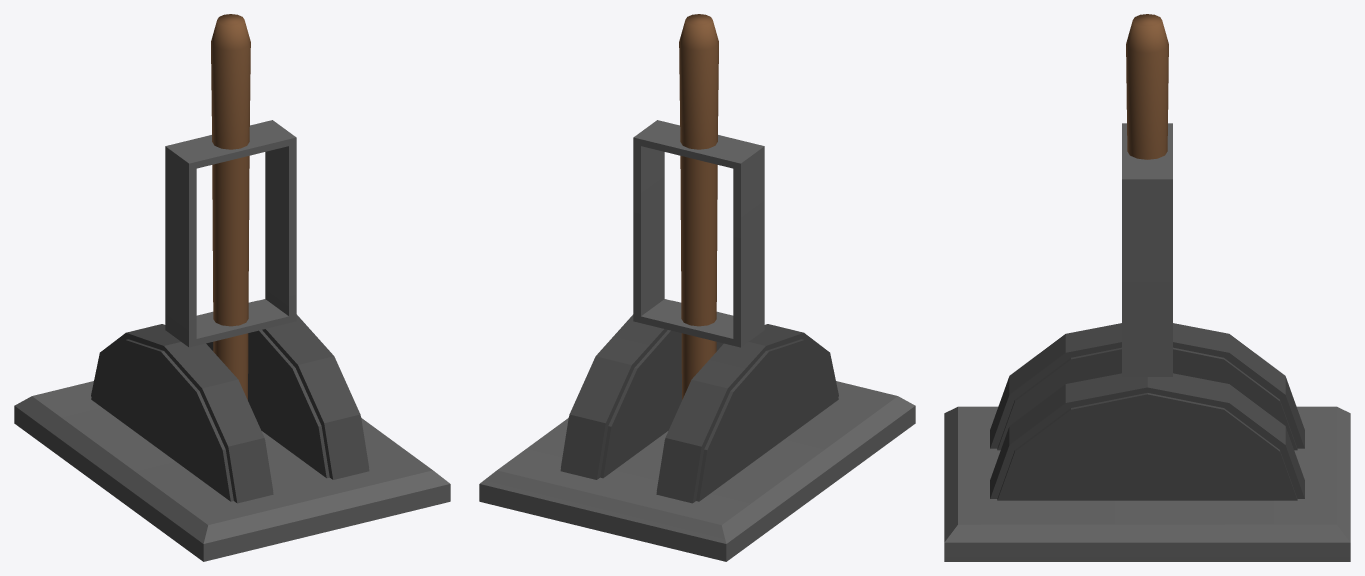
Rendered from Big_Control_Stick_2.fbx.
3 views of the same model, side by side, from view 1: azimuth 30°, elevation 25°; view 2: azimuth 150°, elevation 25°; view 3: azimuth 270°, elevation 25° (orthographic). The views are drawn at different scales.
Visible parts, largest first — view 1: Big_Control_Stick_2, Big_Control_Stick_2.001; view 2: Big_Control_Stick_2, Big_Control_Stick_2.001; view 3: Big_Control_Stick_2, Big_Control_Stick_2.001.
Part boxes in pixels (box(x1,y1,x2,y2)): Big_Control_Stick_2: box(14, 300, 450, 561); Big_Control_Stick_2.001: box(165, 14, 296, 400); Big_Control_Stick_2: box(479, 300, 915, 561); Big_Control_Stick_2.001: box(633, 14, 764, 399); Big_Control_Stick_2: box(944, 323, 1350, 561); Big_Control_Stick_2.001: box(1122, 14, 1172, 376).
Bounding box in the file's own units: 29.4 × 50.42 × 38.99.
Materials: 1 (1 with a texture image).
